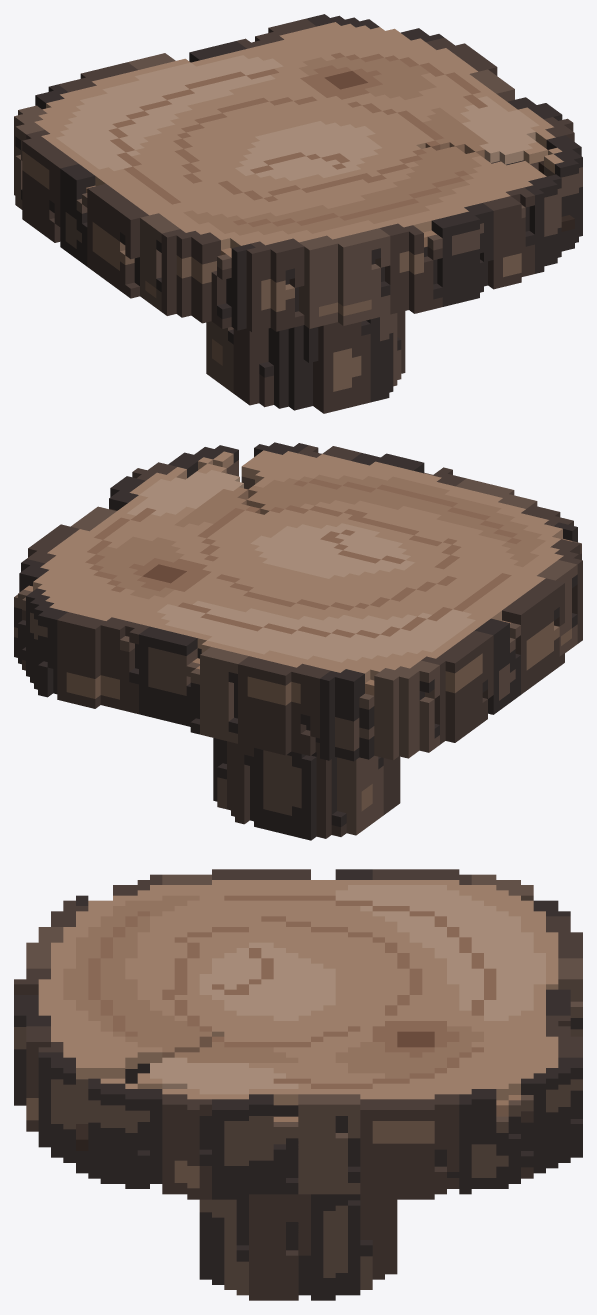
The model's file is dining_table_juniper.glb.
3 views of the same model, one above another, from view 1: azimuth 30°, elevation 25°; view 2: azimuth 150°, elevation 25°; view 3: azimuth 270°, elevation 25° (orthographic). The views are drawn at different scales.
Visible parts, largest first — view 1: VoxelVisual; view 2: VoxelVisual; view 3: VoxelVisual.
Boxes of the visible parts, x1=… form: VoxelVisual: x1=14, y1=14, x2=582, y2=413; VoxelVisual: x1=14, y1=442, x2=582, y2=840; VoxelVisual: x1=14, y1=869, x2=582, y2=1300.
Size of what is drawn, in the model's own units: 2.88 by 1.5 by 2.88.
